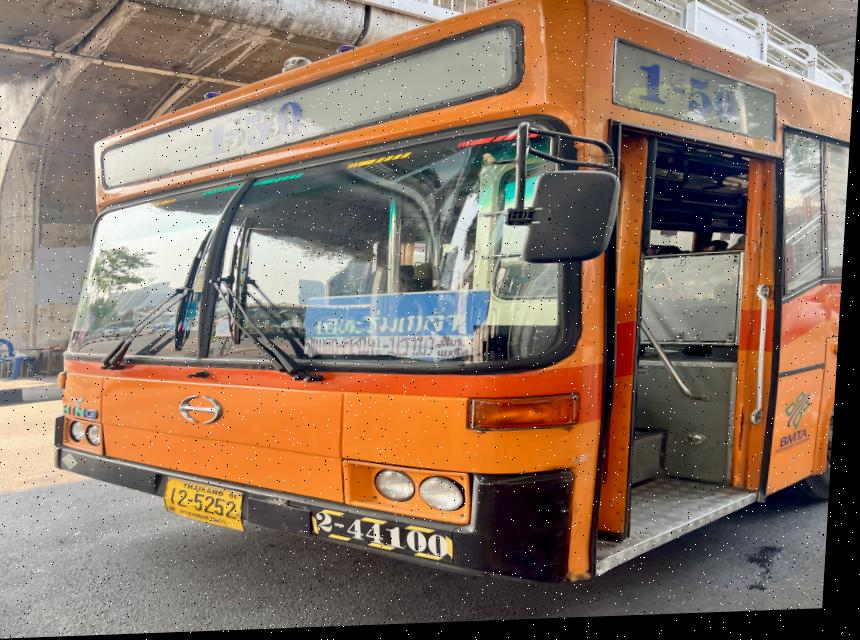BMTA-bus: (57, 0, 854, 592)
Bus Line Number: (190, 93, 310, 165)
Bus Side Number: (308, 509, 470, 568)
Destination Sign: (301, 293, 492, 360)
